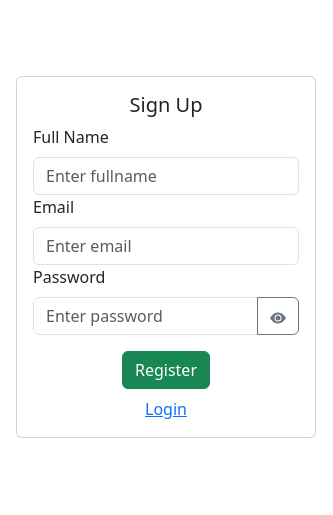
Test: Register component › displays error messages for invalid password
Step 1. Type "John Doe" into the field labelled "Full Name" → [166, 176], box 33,157 -> 299,195
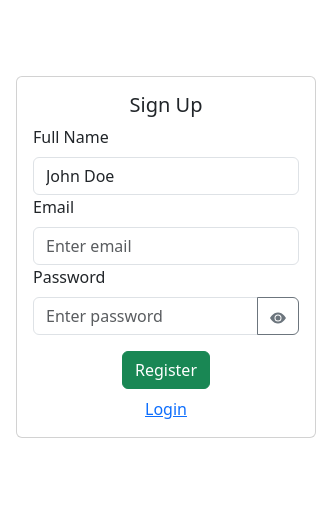
Step 2. Type "john@example.com" into the field labelled "Email" → [166, 246], box 33,227 -> 299,265
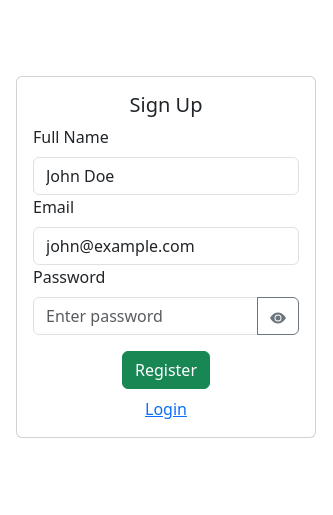
Step 3. Type "Pass" into the password field labelled "Password" → [146, 316], box 33,297 -> 258,335
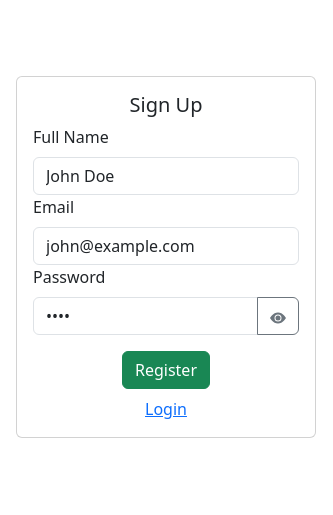
Step 4. Click the button "Register" → [166, 370], box 122,351 -> 210,389
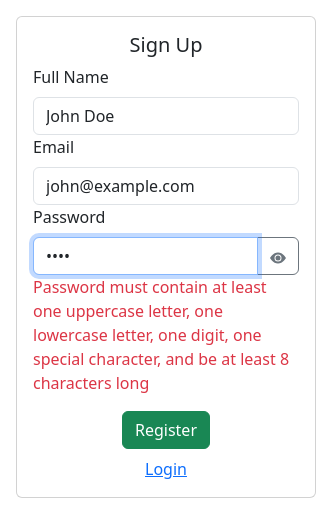
Expected: the text "Password must contain at least one uppercase letter, one lowercase letter, one digit, one special character, and be at l" is shown, 33,276 -> 289,394
